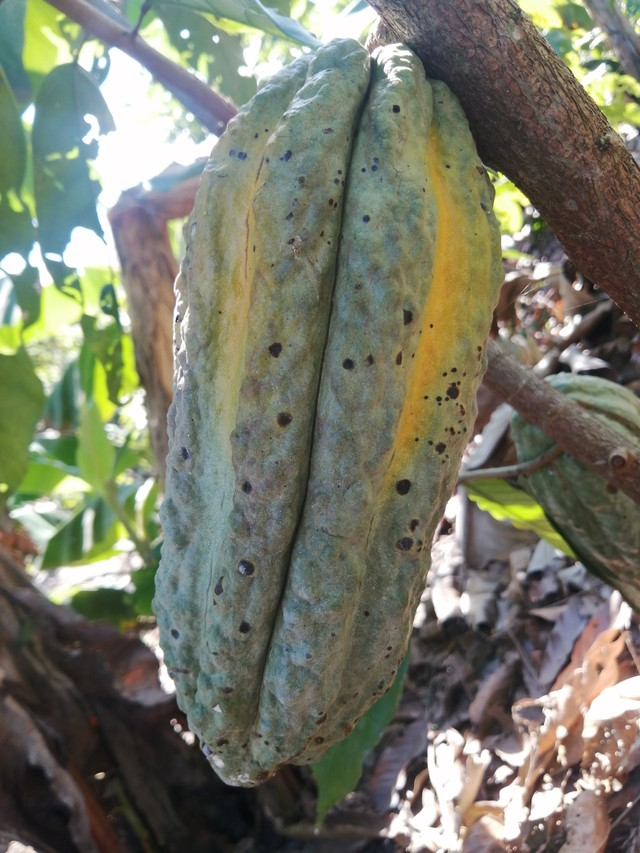moniliophthora perniciosa: (122, 30, 525, 795)
